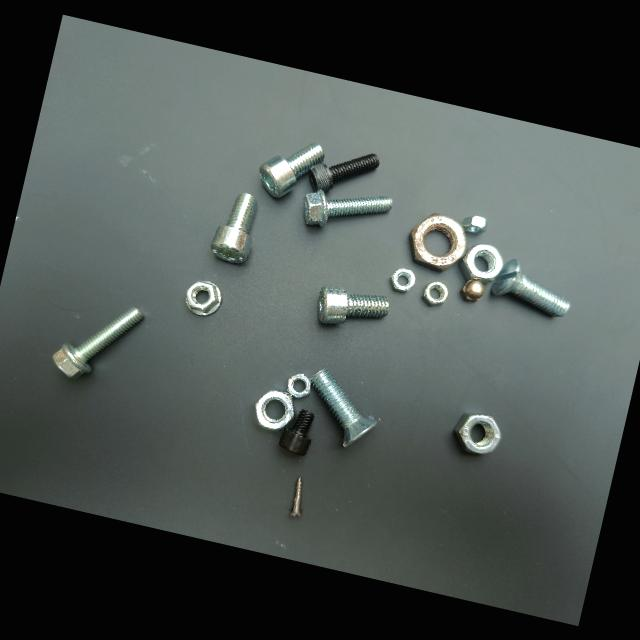bolt: (52, 307, 143, 377), (310, 369, 378, 446), (490, 259, 569, 316), (259, 144, 324, 198), (303, 189, 392, 226), (211, 193, 256, 263), (317, 286, 389, 324), (307, 154, 378, 192), (278, 409, 314, 455), (288, 477, 302, 517)
nuts: (409, 213, 465, 271), (454, 414, 500, 454), (458, 244, 502, 284), (255, 389, 294, 430), (185, 281, 221, 316), (459, 278, 487, 302), (421, 281, 448, 305), (286, 373, 311, 398), (390, 268, 415, 292), (461, 215, 486, 235)
